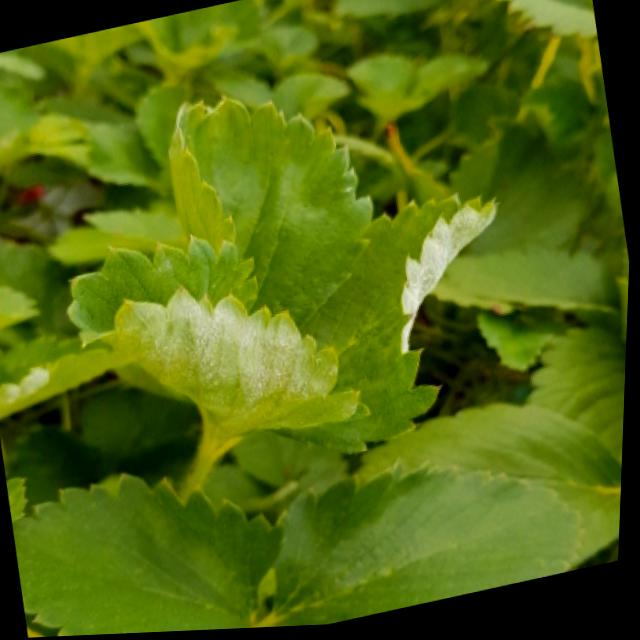Powdery Mildew Leaf: (66, 232, 364, 452), (273, 196, 497, 456), (0, 329, 138, 423)
